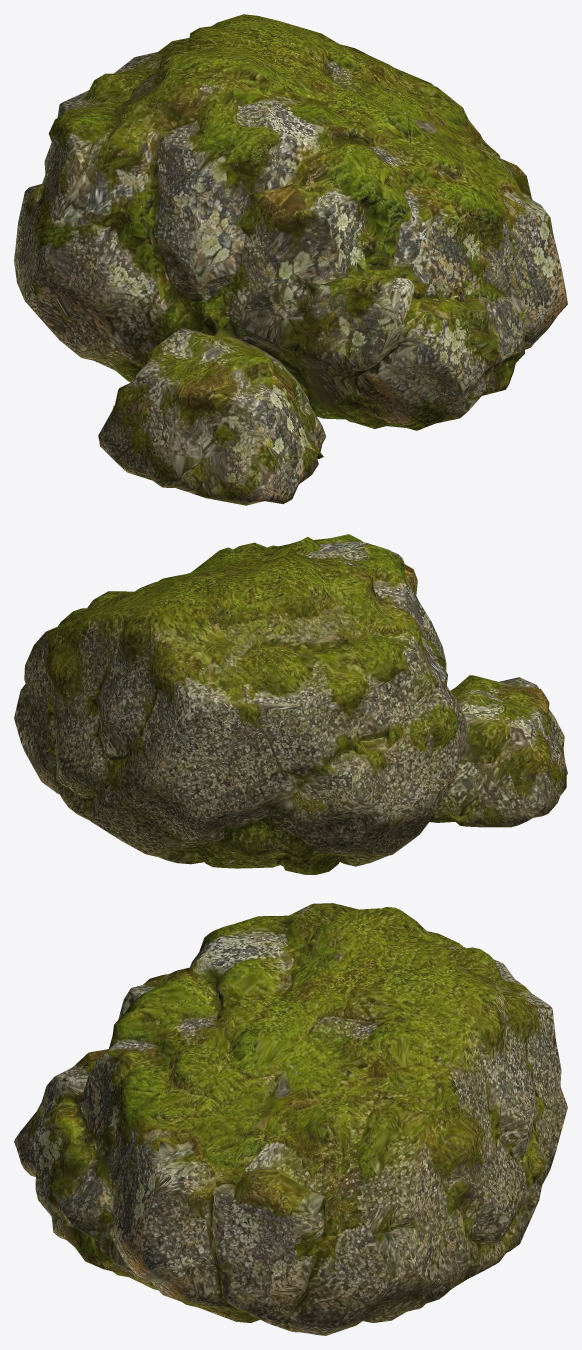
The model's file is pedra_grande.glb.
The picture shows the model from 3 angles, top to bottom: view 1: azimuth 30°, elevation 25°; view 2: azimuth 150°, elevation 25°; view 3: azimuth 270°, elevation 25°; orthographic projection. The views are drawn at different scales.
Parts seen in each view (by area): view 1: pedra_grande; view 2: pedra_grande; view 3: pedra_grande.
Part boxes in pixels (x1,y1,x2,y2): pedra_grande: (14,14,567,505); pedra_grande: (14,534,567,874); pedra_grande: (14,903,567,1335).
Size of the model in its own units: 3.36 by 2 by 3.35.
1 material, 1 textured.
